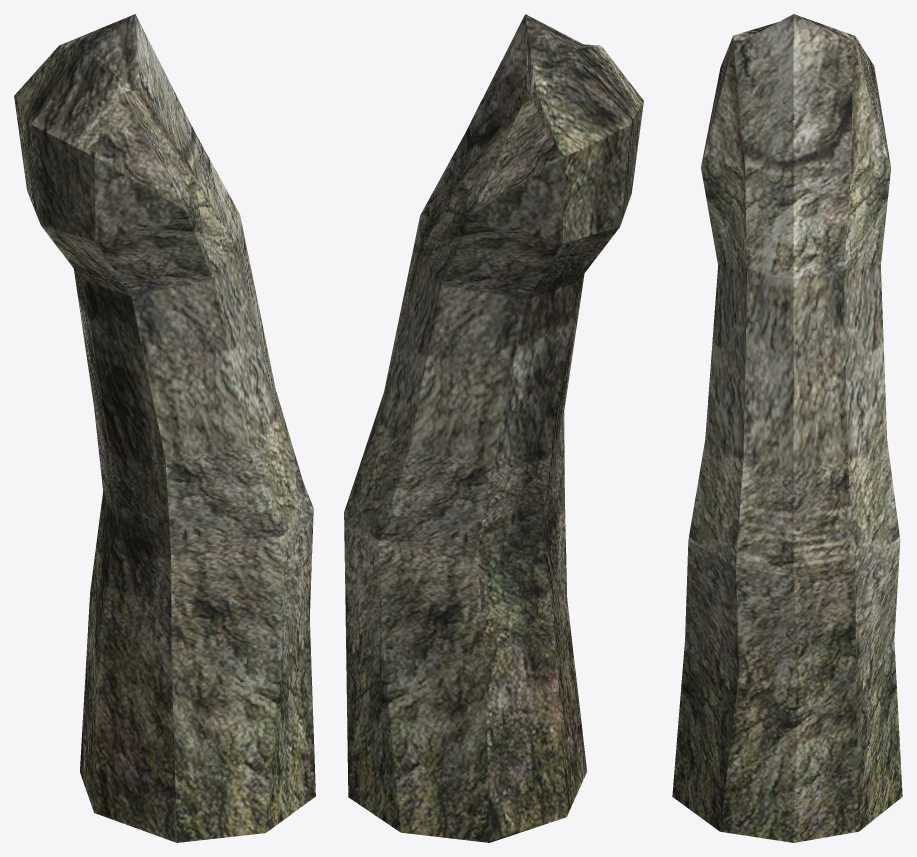
3 renders of one model, left to right at view 1: azimuth 30°, elevation 25°; view 2: azimuth 150°, elevation 25°; view 3: azimuth 270°, elevation 25°, orthographic. The views are drawn at different scales.
Parts seen in each view (by area): view 1: Shape02; view 2: Shape02; view 3: Shape02.
Part boxes in pixels (box(x1,y1,x2,y2)): Shape02: box(14, 14, 315, 842); Shape02: box(344, 14, 643, 842); Shape02: box(672, 14, 902, 842).
Size of the model in its own units: 5.13 by 14.24 by 3.95.
